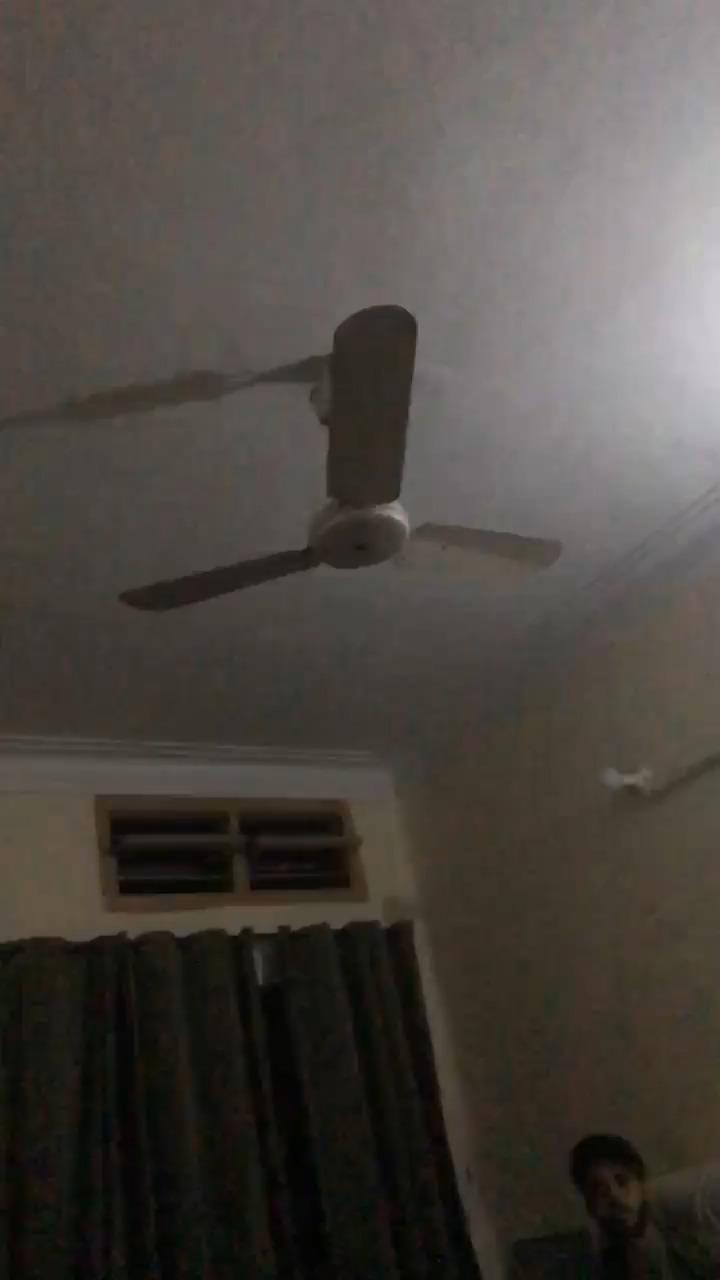fan: (3, 302, 564, 613)
